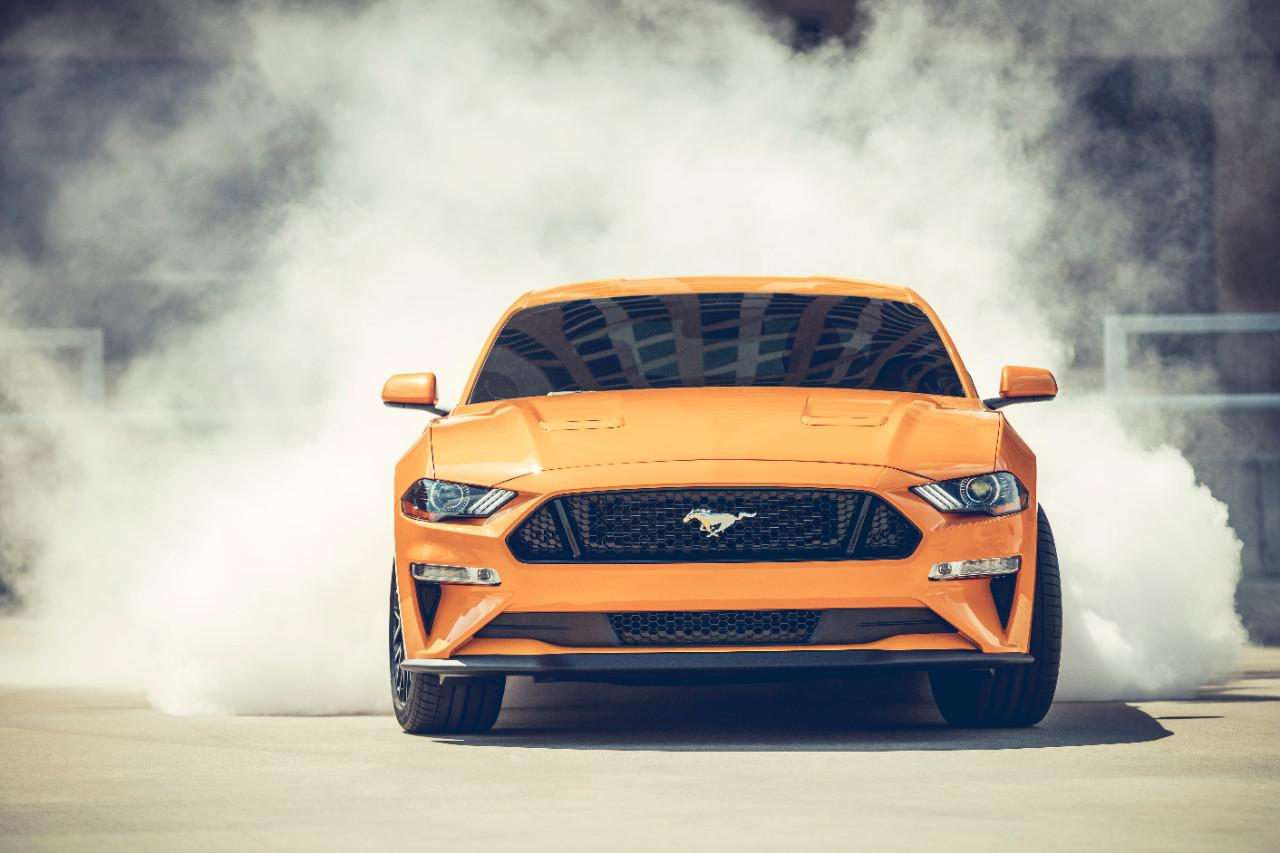car: (374, 274, 1139, 745)
